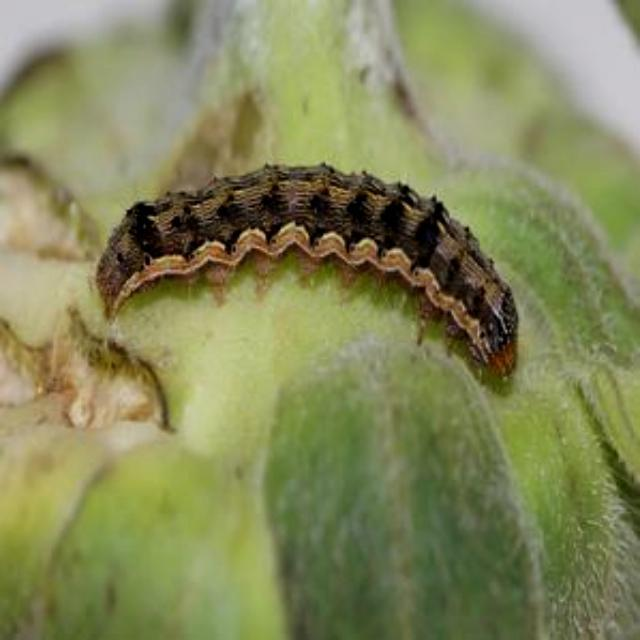Cotton bollworm: (61, 110, 529, 424)
